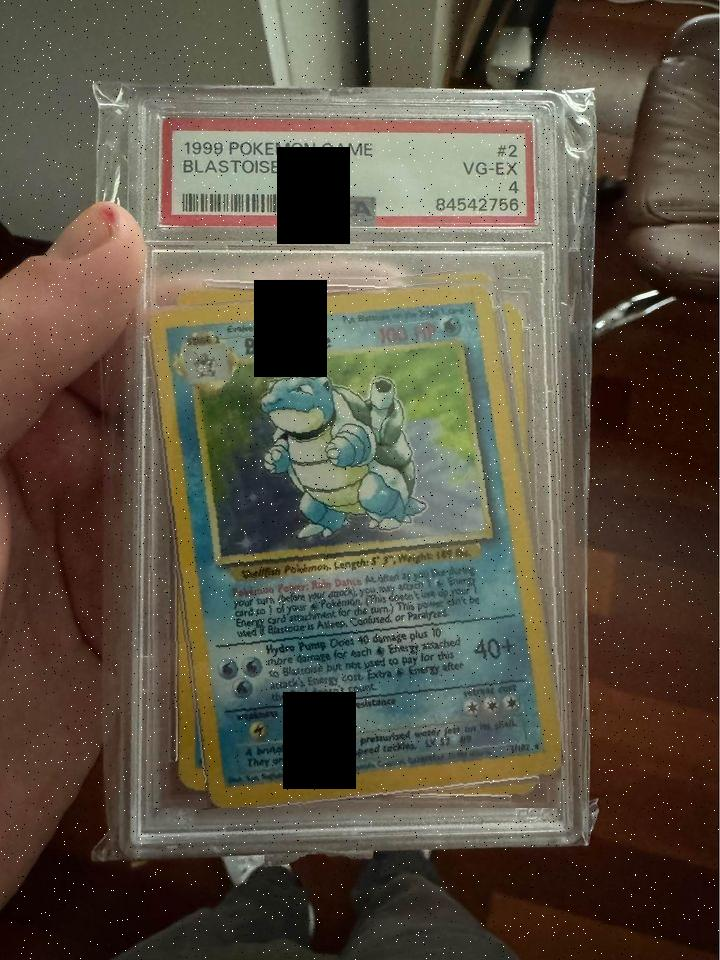card: (147, 280, 561, 808)
